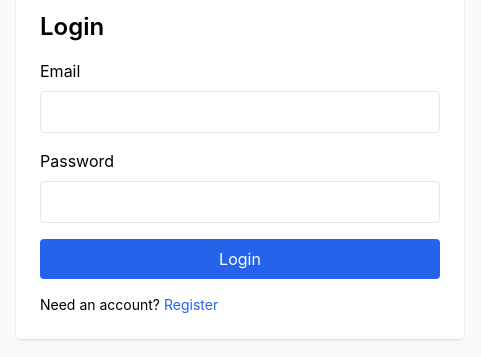
Scenario: LoginPage › disables submit button during submission
Type "user@example.com" into the field labelled "Email" at (240, 112), box left=40, top=91, right=440, bottom=133
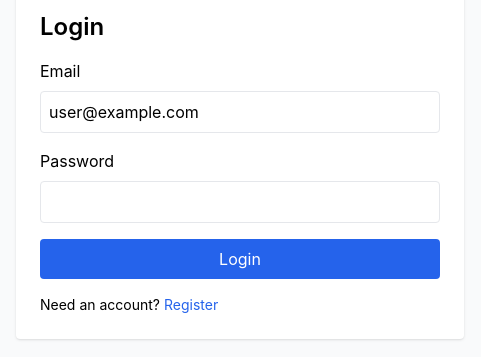
Type "password123" into the password field labelled "Password" at (240, 202), box left=40, top=181, right=440, bottom=223
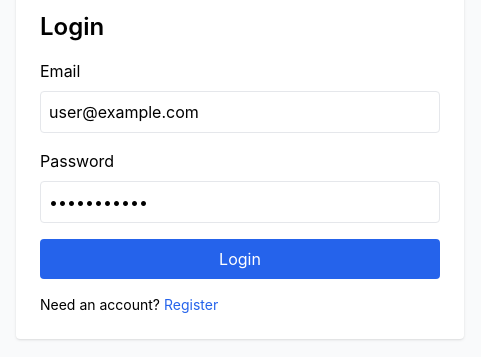
Click the button "Login" at (240, 259), box left=40, top=239, right=440, bottom=279
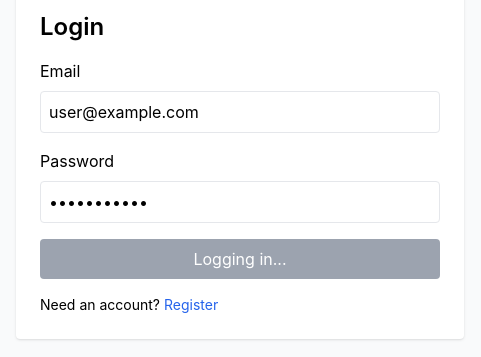
Result: the button "Logging in..." is disabled at left=40, top=239, right=440, bottom=279
